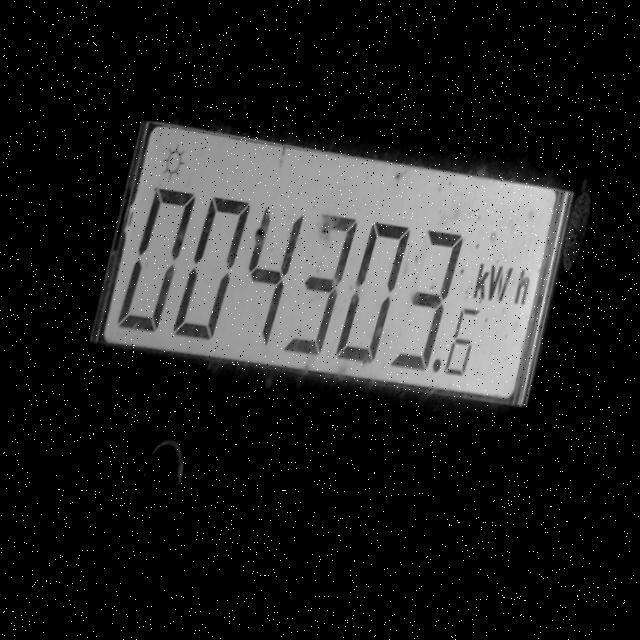.: (429, 354, 446, 378)
0: (170, 183, 257, 353), (113, 178, 199, 348), (332, 211, 417, 373)
3: (278, 204, 362, 373), (387, 217, 467, 385)
4: (227, 194, 312, 354)
6: (443, 306, 487, 387)
